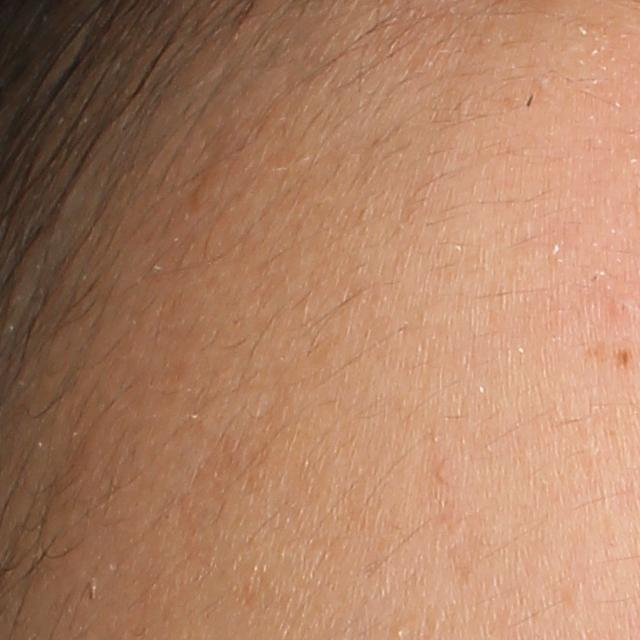nevus: (614, 346, 632, 367)
